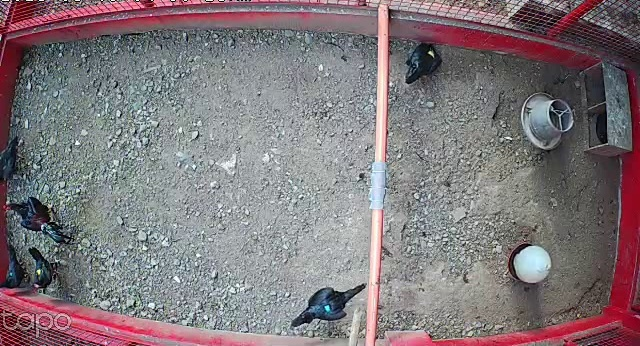Chicken: (290, 276, 370, 328), (25, 247, 68, 296), (402, 40, 446, 83), (1, 243, 30, 292)
Rooster: (2, 194, 70, 246)
Saddle_Color_Blue: (326, 305, 330, 311)
Saddle_Color_Yellow: (427, 48, 436, 58), (37, 268, 44, 275)
